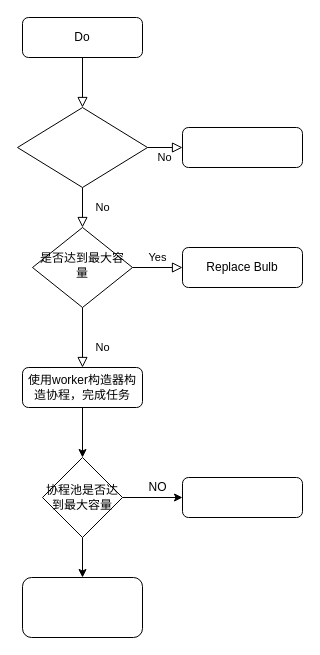
Image size: 320x655. Some labels were removed from this diagram. Here are the shapes that lost their labels. From the top down, the centre of each, then its label:
At (x=82, y=147): "协程池中是否有空闲的协程".
At (x=242, y=497): "加入协程池".
At (x=82, y=607): "销毁 worker".
